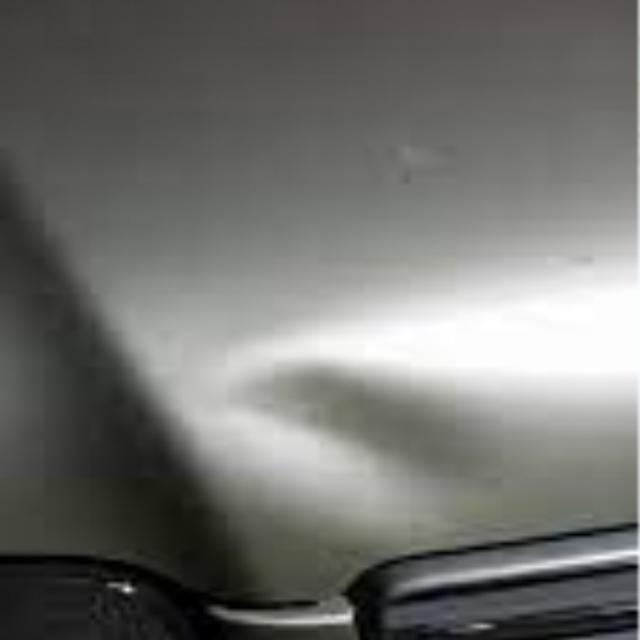dents: (212, 326, 514, 528)
